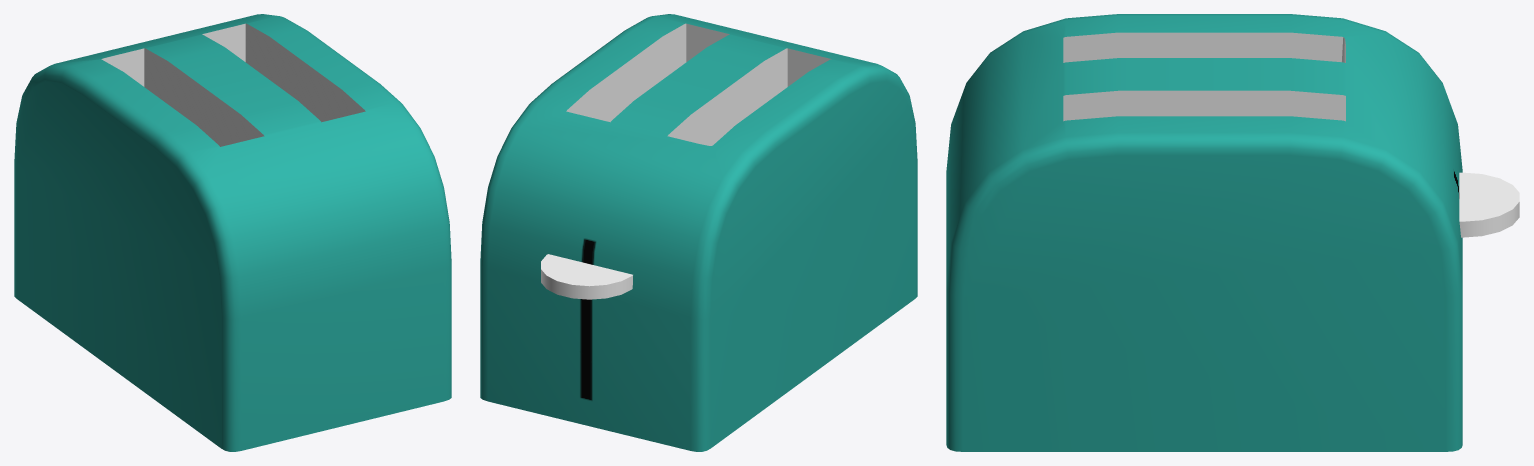
Rendered from Toaster.fbx.
3 renders of one model, left to right at view 1: azimuth 30°, elevation 25°; view 2: azimuth 150°, elevation 25°; view 3: azimuth 270°, elevation 25°, orthographic. The views are drawn at different scales.
Visible parts, largest first — view 1: Toaster; view 2: Toaster; view 3: Toaster.
Boxes of the visible parts, x1,y1,x2,y2 form: Toaster: (14,14,451,451); Toaster: (480,14,917,451); Toaster: (946,14,1519,451).
Size of the model in its own units: 18 by 20 by 33.3.
Materials: 1 (1 with a texture image).
